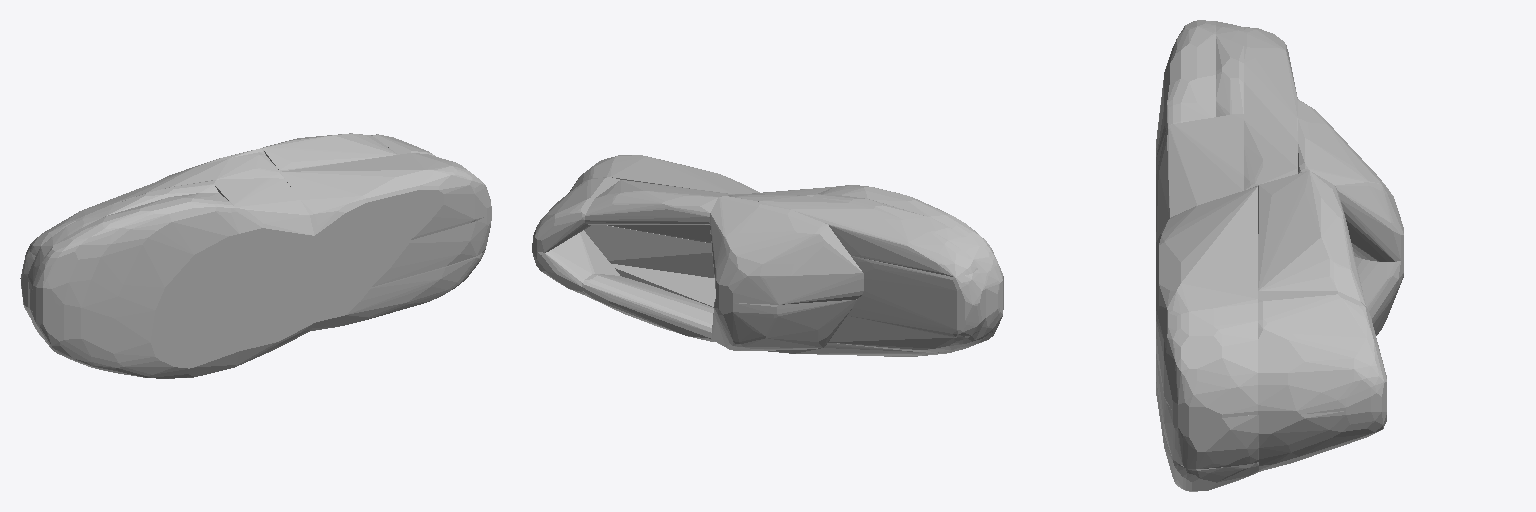
robot.urdf — root:
<robot name="root">
  <link name="link_coacd_convex_piece_0">
    <inertial>
      <origin xyz="0 0 0" rpy="0 0 0"/>
      <inertia ixx="1.16E-03" ixy="1.67E-03" ixz="2.62E-03" iyy="8.85E-03" iyz="-5.40E-04" izz="8.73E-03"/>
    </inertial>
    <visual>
      <origin xyz="0 0 0" rpy="0 0 0"/>
      <geometry>
        <mesh filename="coacd_convex_piece_0.obj" scale="1.0000E+00 1.0000E+00 1.0000E+00"/>
      </geometry>
      <material name="">
        <color rgba="7.50E-01 7.50E-01 7.50E-01 1"/>
      </material>
    </visual>
    <collision>
      <origin xyz="0 0 0" rpy="0 0 0"/>
      <geometry>
        <mesh filename="coacd_convex_piece_0.obj" scale="1.0000E+00 1.0000E+00 1.0000E+00"/>
      </geometry>
    </collision>
  </link>
  <link name="link_coacd_convex_piece_1">
    <inertial>
      <origin xyz="0 0 0" rpy="0 0 0"/>
      <inertia ixx="3.57E-04" ixy="8.26E-05" ixz="2.01E-04" iyy="3.57E-04" iyz="-1.58E-04" izz="4.61E-04"/>
    </inertial>
    <visual>
      <origin xyz="0 0 0" rpy="0 0 0"/>
      <geometry>
        <mesh filename="coacd_convex_piece_1.obj" scale="1.0000E+00 1.0000E+00 1.0000E+00"/>
      </geometry>
      <material name="">
        <color rgba="7.50E-01 7.50E-01 7.50E-01 1"/>
      </material>
    </visual>
    <collision>
      <origin xyz="0 0 0" rpy="0 0 0"/>
      <geometry>
        <mesh filename="coacd_convex_piece_1.obj" scale="1.0000E+00 1.0000E+00 1.0000E+00"/>
      </geometry>
    </collision>
  </link>
  <joint name="link_coacd_convex_piece_1_joint" type="fixed">
    <origin xyz="0 0 0" rpy="0 0 0"/>
    <parent link="link_coacd_convex_piece_0"/>
    <child link="link_coacd_convex_piece_1"/>
  </joint>
  <link name="link_coacd_convex_piece_2">
    <inertial>
      <origin xyz="0 0 0" rpy="0 0 0"/>
      <inertia ixx="5.21E-04" ixy="-1.72E-04" ixz="2.47E-04" iyy="4.79E-04" iyz="2.88E-04" izz="7.50E-04"/>
    </inertial>
    <visual>
      <origin xyz="0 0 0" rpy="0 0 0"/>
      <geometry>
        <mesh filename="coacd_convex_piece_2.obj" scale="1.0000E+00 1.0000E+00 1.0000E+00"/>
      </geometry>
      <material name="">
        <color rgba="7.50E-01 7.50E-01 7.50E-01 1"/>
      </material>
    </visual>
    <collision>
      <origin xyz="0 0 0" rpy="0 0 0"/>
      <geometry>
        <mesh filename="coacd_convex_piece_2.obj" scale="1.0000E+00 1.0000E+00 1.0000E+00"/>
      </geometry>
    </collision>
  </link>
  <joint name="link_coacd_convex_piece_2_joint" type="fixed">
    <origin xyz="0 0 0" rpy="0 0 0"/>
    <parent link="link_coacd_convex_piece_1"/>
    <child link="link_coacd_convex_piece_2"/>
  </joint>
  <link name="link_coacd_convex_piece_3">
    <inertial>
      <origin xyz="0 0 0" rpy="0 0 0"/>
      <inertia ixx="7.30E-05" ixy="-4.13E-04" ixz="-3.71E-04" iyy="3.79E-03" iyz="-2.84E-05" izz="3.85E-03"/>
    </inertial>
    <visual>
      <origin xyz="0 0 0" rpy="0 0 0"/>
      <geometry>
        <mesh filename="coacd_convex_piece_3.obj" scale="1.0000E+00 1.0000E+00 1.0000E+00"/>
      </geometry>
      <material name="">
        <color rgba="7.50E-01 7.50E-01 7.50E-01 1"/>
      </material>
    </visual>
    <collision>
      <origin xyz="0 0 0" rpy="0 0 0"/>
      <geometry>
        <mesh filename="coacd_convex_piece_3.obj" scale="1.0000E+00 1.0000E+00 1.0000E+00"/>
      </geometry>
    </collision>
  </link>
  <joint name="link_coacd_convex_piece_3_joint" type="fixed">
    <origin xyz="0 0 0" rpy="0 0 0"/>
    <parent link="link_coacd_convex_piece_2"/>
    <child link="link_coacd_convex_piece_3"/>
  </joint>
  <link name="link_coacd_convex_piece_4">
    <inertial>
      <origin xyz="0 0 0" rpy="0 0 0"/>
      <inertia ixx="2.87E-04" ixy="-6.16E-04" ixz="-2.00E-04" iyy="1.47E-03" iyz="-8.29E-05" izz="1.82E-03"/>
    </inertial>
    <visual>
      <origin xyz="0 0 0" rpy="0 0 0"/>
      <geometry>
        <mesh filename="coacd_convex_piece_4.obj" scale="1.0000E+00 1.0000E+00 1.0000E+00"/>
      </geometry>
      <material name="">
        <color rgba="7.50E-01 7.50E-01 7.50E-01 1"/>
      </material>
    </visual>
    <collision>
      <origin xyz="0 0 0" rpy="0 0 0"/>
      <geometry>
        <mesh filename="coacd_convex_piece_4.obj" scale="1.0000E+00 1.0000E+00 1.0000E+00"/>
      </geometry>
    </collision>
  </link>
  <joint name="link_coacd_convex_piece_4_joint" type="fixed">
    <origin xyz="0 0 0" rpy="0 0 0"/>
    <parent link="link_coacd_convex_piece_3"/>
    <child link="link_coacd_convex_piece_4"/>
  </joint>
  <link name="link_coacd_convex_piece_5">
    <inertial>
      <origin xyz="0 0 0" rpy="0 0 0"/>
      <inertia ixx="9.92E-04" ixy="-1.46E-03" ixz="1.36E-03" iyy="4.41E-03" iyz="5.68E-04" izz="4.72E-03"/>
    </inertial>
    <visual>
      <origin xyz="0 0 0" rpy="0 0 0"/>
      <geometry>
        <mesh filename="coacd_convex_piece_5.obj" scale="1.0000E+00 1.0000E+00 1.0000E+00"/>
      </geometry>
      <material name="">
        <color rgba="7.50E-01 7.50E-01 7.50E-01 1"/>
      </material>
    </visual>
    <collision>
      <origin xyz="0 0 0" rpy="0 0 0"/>
      <geometry>
        <mesh filename="coacd_convex_piece_5.obj" scale="1.0000E+00 1.0000E+00 1.0000E+00"/>
      </geometry>
    </collision>
  </link>
  <joint name="link_coacd_convex_piece_5_joint" type="fixed">
    <origin xyz="0 0 0" rpy="0 0 0"/>
    <parent link="link_coacd_convex_piece_4"/>
    <child link="link_coacd_convex_piece_5"/>
  </joint>
  <link name="link_coacd_convex_piece_6">
    <inertial>
      <origin xyz="0 0 0" rpy="0 0 0"/>
      <inertia ixx="5.38E-04" ixy="-5.58E-04" ixz="1.77E-03" iyy="6.29E-03" iyz="2.21E-04" izz="5.94E-03"/>
    </inertial>
    <visual>
      <origin xyz="0 0 0" rpy="0 0 0"/>
      <geometry>
        <mesh filename="coacd_convex_piece_6.obj" scale="1.0000E+00 1.0000E+00 1.0000E+00"/>
      </geometry>
      <material name="">
        <color rgba="7.50E-01 7.50E-01 7.50E-01 1"/>
      </material>
    </visual>
    <collision>
      <origin xyz="0 0 0" rpy="0 0 0"/>
      <geometry>
        <mesh filename="coacd_convex_piece_6.obj" scale="1.0000E+00 1.0000E+00 1.0000E+00"/>
      </geometry>
    </collision>
  </link>
  <joint name="link_coacd_convex_piece_6_joint" type="fixed">
    <origin xyz="0 0 0" rpy="0 0 0"/>
    <parent link="link_coacd_convex_piece_5"/>
    <child link="link_coacd_convex_piece_6"/>
  </joint>
  <link name="link_coacd_convex_piece_7">
    <inertial>
      <origin xyz="0 0 0" rpy="0 0 0"/>
      <inertia ixx="9.49E-05" ixy="4.90E-04" ixz="-3.64E-04" iyy="3.53E-03" iyz="6.17E-05" izz="3.61E-03"/>
    </inertial>
    <visual>
      <origin xyz="0 0 0" rpy="0 0 0"/>
      <geometry>
        <mesh filename="coacd_convex_piece_7.obj" scale="1.0000E+00 1.0000E+00 1.0000E+00"/>
      </geometry>
      <material name="">
        <color rgba="7.50E-01 7.50E-01 7.50E-01 1"/>
      </material>
    </visual>
    <collision>
      <origin xyz="0 0 0" rpy="0 0 0"/>
      <geometry>
        <mesh filename="coacd_convex_piece_7.obj" scale="1.0000E+00 1.0000E+00 1.0000E+00"/>
      </geometry>
    </collision>
  </link>
  <joint name="link_coacd_convex_piece_7_joint" type="fixed">
    <origin xyz="0 0 0" rpy="0 0 0"/>
    <parent link="link_coacd_convex_piece_6"/>
    <child link="link_coacd_convex_piece_7"/>
  </joint>
  <link name="link_coacd_convex_piece_8">
    <inertial>
      <origin xyz="0 0 0" rpy="0 0 0"/>
      <inertia ixx="3.43E-04" ixy="6.79E-04" ixz="-1.76E-04" iyy="1.39E-03" iyz="1.20E-04" izz="1.81E-03"/>
    </inertial>
    <visual>
      <origin xyz="0 0 0" rpy="0 0 0"/>
      <geometry>
        <mesh filename="coacd_convex_piece_8.obj" scale="1.0000E+00 1.0000E+00 1.0000E+00"/>
      </geometry>
      <material name="">
        <color rgba="7.50E-01 7.50E-01 7.50E-01 1"/>
      </material>
    </visual>
    <collision>
      <origin xyz="0 0 0" rpy="0 0 0"/>
      <geometry>
        <mesh filename="coacd_convex_piece_8.obj" scale="1.0000E+00 1.0000E+00 1.0000E+00"/>
      </geometry>
    </collision>
  </link>
  <joint name="link_coacd_convex_piece_8_joint" type="fixed">
    <origin xyz="0 0 0" rpy="0 0 0"/>
    <parent link="link_coacd_convex_piece_7"/>
    <child link="link_coacd_convex_piece_8"/>
  </joint>
  <link name="link_coacd_convex_piece_9">
    <inertial>
      <origin xyz="0 0 0" rpy="0 0 0"/>
      <inertia ixx="2.36E-04" ixy="1.64E-04" ixz="-1.43E-06" iyy="1.95E-04" iyz="4.29E-05" izz="5.41E-04"/>
    </inertial>
    <visual>
      <origin xyz="0 0 0" rpy="0 0 0"/>
      <geometry>
        <mesh filename="coacd_convex_piece_9.obj" scale="1.0000E+00 1.0000E+00 1.0000E+00"/>
      </geometry>
      <material name="">
        <color rgba="7.50E-01 7.50E-01 7.50E-01 1"/>
      </material>
    </visual>
    <collision>
      <origin xyz="0 0 0" rpy="0 0 0"/>
      <geometry>
        <mesh filename="coacd_convex_piece_9.obj" scale="1.0000E+00 1.0000E+00 1.0000E+00"/>
      </geometry>
    </collision>
  </link>
  <joint name="link_coacd_convex_piece_9_joint" type="fixed">
    <origin xyz="0 0 0" rpy="0 0 0"/>
    <parent link="link_coacd_convex_piece_8"/>
    <child link="link_coacd_convex_piece_9"/>
  </joint>
  <link name="link_coacd_convex_piece_10">
    <inertial>
      <origin xyz="0 0 0" rpy="0 0 0"/>
      <inertia ixx="3.48E-05" ixy="3.70E-04" ixz="-6.03E-05" iyy="1.54E-03" iyz="3.39E-05" izz="1.73E-03"/>
    </inertial>
    <visual>
      <origin xyz="0 0 0" rpy="0 0 0"/>
      <geometry>
        <mesh filename="coacd_convex_piece_10.obj" scale="1.0000E+00 1.0000E+00 1.0000E+00"/>
      </geometry>
      <material name="">
        <color rgba="7.50E-01 7.50E-01 7.50E-01 1"/>
      </material>
    </visual>
    <collision>
      <origin xyz="0 0 0" rpy="0 0 0"/>
      <geometry>
        <mesh filename="coacd_convex_piece_10.obj" scale="1.0000E+00 1.0000E+00 1.0000E+00"/>
      </geometry>
    </collision>
  </link>
  <joint name="link_coacd_convex_piece_10_joint" type="fixed">
    <origin xyz="0 0 0" rpy="0 0 0"/>
    <parent link="link_coacd_convex_piece_9"/>
    <child link="link_coacd_convex_piece_10"/>
  </joint>
  <link name="link_coacd_convex_piece_11">
    <inertial>
      <origin xyz="0 0 0" rpy="0 0 0"/>
      <inertia ixx="-2.27E-05" ixy="-5.59E-04" ixz="-1.42E-04" iyy="4.81E-03" iyz="-9.38E-07" izz="5.16E-03"/>
    </inertial>
    <visual>
      <origin xyz="0 0 0" rpy="0 0 0"/>
      <geometry>
        <mesh filename="coacd_convex_piece_11.obj" scale="1.0000E+00 1.0000E+00 1.0000E+00"/>
      </geometry>
      <material name="">
        <color rgba="7.50E-01 7.50E-01 7.50E-01 1"/>
      </material>
    </visual>
    <collision>
      <origin xyz="0 0 0" rpy="0 0 0"/>
      <geometry>
        <mesh filename="coacd_convex_piece_11.obj" scale="1.0000E+00 1.0000E+00 1.0000E+00"/>
      </geometry>
    </collision>
  </link>
  <joint name="link_coacd_convex_piece_11_joint" type="fixed">
    <origin xyz="0 0 0" rpy="0 0 0"/>
    <parent link="link_coacd_convex_piece_10"/>
    <child link="link_coacd_convex_piece_11"/>
  </joint>
  <link name="link_coacd_convex_piece_12">
    <inertial>
      <origin xyz="0 0 0" rpy="0 0 0"/>
      <inertia ixx="5.42E-04" ixy="-7.31E-04" ixz="-4.02E-05" iyy="1.41E-03" iyz="-5.39E-05" izz="2.17E-03"/>
    </inertial>
    <visual>
      <origin xyz="0 0 0" rpy="0 0 0"/>
      <geometry>
        <mesh filename="coacd_convex_piece_12.obj" scale="1.0000E+00 1.0000E+00 1.0000E+00"/>
      </geometry>
      <material name="">
        <color rgba="7.50E-01 7.50E-01 7.50E-01 1"/>
      </material>
    </visual>
    <collision>
      <origin xyz="0 0 0" rpy="0 0 0"/>
      <geometry>
        <mesh filename="coacd_convex_piece_12.obj" scale="1.0000E+00 1.0000E+00 1.0000E+00"/>
      </geometry>
    </collision>
  </link>
  <joint name="link_coacd_convex_piece_12_joint" type="fixed">
    <origin xyz="0 0 0" rpy="0 0 0"/>
    <parent link="link_coacd_convex_piece_11"/>
    <child link="link_coacd_convex_piece_12"/>
  </joint>
  <link name="link_coacd_convex_piece_13">
    <inertial>
      <origin xyz="0 0 0" rpy="0 0 0"/>
      <inertia ixx="6.37E-04" ixy="2.57E-05" ixz="2.73E-05" iyy="2.78E-04" iyz="3.52E-04" izz="4.38E-04"/>
    </inertial>
    <visual>
      <origin xyz="0 0 0" rpy="0 0 0"/>
      <geometry>
        <mesh filename="coacd_convex_piece_13.obj" scale="1.0000E+00 1.0000E+00 1.0000E+00"/>
      </geometry>
      <material name="">
        <color rgba="7.50E-01 7.50E-01 7.50E-01 1"/>
      </material>
    </visual>
    <collision>
      <origin xyz="0 0 0" rpy="0 0 0"/>
      <geometry>
        <mesh filename="coacd_convex_piece_13.obj" scale="1.0000E+00 1.0000E+00 1.0000E+00"/>
      </geometry>
    </collision>
  </link>
  <joint name="link_coacd_convex_piece_13_joint" type="fixed">
    <origin xyz="0 0 0" rpy="0 0 0"/>
    <parent link="link_coacd_convex_piece_12"/>
    <child link="link_coacd_convex_piece_13"/>
  </joint>
  <link name="link_coacd_convex_piece_14">
    <inertial>
      <origin xyz="0 0 0" rpy="0 0 0"/>
      <inertia ixx="8.41E-04" ixy="-2.12E-05" ixz="6.36E-05" iyy="6.03E-04" iyz="-2.22E-04" izz="4.07E-04"/>
    </inertial>
    <visual>
      <origin xyz="0 0 0" rpy="0 0 0"/>
      <geometry>
        <mesh filename="coacd_convex_piece_14.obj" scale="1.0000E+00 1.0000E+00 1.0000E+00"/>
      </geometry>
      <material name="">
        <color rgba="7.50E-01 7.50E-01 7.50E-01 1"/>
      </material>
    </visual>
    <collision>
      <origin xyz="0 0 0" rpy="0 0 0"/>
      <geometry>
        <mesh filename="coacd_convex_piece_14.obj" scale="1.0000E+00 1.0000E+00 1.0000E+00"/>
      </geometry>
    </collision>
  </link>
  <joint name="link_coacd_convex_piece_14_joint" type="fixed">
    <origin xyz="0 0 0" rpy="0 0 0"/>
    <parent link="link_coacd_convex_piece_13"/>
    <child link="link_coacd_convex_piece_14"/>
  </joint>
  <link name="link_coacd_convex_piece_15">
    <inertial>
      <origin xyz="0 0 0" rpy="0 0 0"/>
      <inertia ixx="2.74E-03" ixy="-3.10E-04" ixz="-3.90E-03" iyy="1.18E-02" iyz="-1.18E-05" izz="1.15E-02"/>
    </inertial>
    <visual>
      <origin xyz="0 0 0" rpy="0 0 0"/>
      <geometry>
        <mesh filename="coacd_convex_piece_15.obj" scale="1.0000E+00 1.0000E+00 1.0000E+00"/>
      </geometry>
      <material name="">
        <color rgba="7.50E-01 7.50E-01 7.50E-01 1"/>
      </material>
    </visual>
    <collision>
      <origin xyz="0 0 0" rpy="0 0 0"/>
      <geometry>
        <mesh filename="coacd_convex_piece_15.obj" scale="1.0000E+00 1.0000E+00 1.0000E+00"/>
      </geometry>
    </collision>
  </link>
  <joint name="link_coacd_convex_piece_15_joint" type="fixed">
    <origin xyz="0 0 0" rpy="0 0 0"/>
    <parent link="link_coacd_convex_piece_14"/>
    <child link="link_coacd_convex_piece_15"/>
  </joint>
  <link name="link_coacd_convex_piece_16">
    <inertial>
      <origin xyz="0 0 0" rpy="0 0 0"/>
      <inertia ixx="2.27E-04" ixy="4.47E-04" ixz="-6.15E-04" iyy="3.28E-03" iyz="1.41E-04" izz="3.45E-03"/>
    </inertial>
    <visual>
      <origin xyz="0 0 0" rpy="0 0 0"/>
      <geometry>
        <mesh filename="coacd_convex_piece_16.obj" scale="1.0000E+00 1.0000E+00 1.0000E+00"/>
      </geometry>
      <material name="">
        <color rgba="7.50E-01 7.50E-01 7.50E-01 1"/>
      </material>
    </visual>
    <collision>
      <origin xyz="0 0 0" rpy="0 0 0"/>
      <geometry>
        <mesh filename="coacd_convex_piece_16.obj" scale="1.0000E+00 1.0000E+00 1.0000E+00"/>
      </geometry>
    </collision>
  </link>
  <joint name="link_coacd_convex_piece_16_joint" type="fixed">
    <origin xyz="0 0 0" rpy="0 0 0"/>
    <parent link="link_coacd_convex_piece_15"/>
    <child link="link_coacd_convex_piece_16"/>
  </joint>
  <link name="link_coacd_convex_piece_17">
    <inertial>
      <origin xyz="0 0 0" rpy="0 0 0"/>
      <inertia ixx="3.95E-04" ixy="-8.26E-04" ixz="-4.90E-04" iyy="2.59E-03" iyz="-1.93E-04" izz="2.94E-03"/>
    </inertial>
    <visual>
      <origin xyz="0 0 0" rpy="0 0 0"/>
      <geometry>
        <mesh filename="coacd_convex_piece_17.obj" scale="1.0000E+00 1.0000E+00 1.0000E+00"/>
      </geometry>
      <material name="">
        <color rgba="7.50E-01 7.50E-01 7.50E-01 1"/>
      </material>
    </visual>
    <collision>
      <origin xyz="0 0 0" rpy="0 0 0"/>
      <geometry>
        <mesh filename="coacd_convex_piece_17.obj" scale="1.0000E+00 1.0000E+00 1.0000E+00"/>
      </geometry>
    </collision>
  </link>
  <joint name="link_coacd_convex_piece_17_joint" type="fixed">
    <origin xyz="0 0 0" rpy="0 0 0"/>
    <parent link="link_coacd_convex_piece_16"/>
    <child link="link_coacd_convex_piece_17"/>
  </joint>
</robot>

--- What the picture shows (computed from the rendered views, not written in the file) ---
Views: 3 orthographic renders of the robot side by side, from view 1: azimuth 30°, elevation 25°; view 2: azimuth 150°, elevation 25°; view 3: azimuth 270°, elevation 25°.
Robot: root — 18 links, 17 joints (17 fixed); root link link_coacd_convex_piece_0; default pose: every joint at zero.
Visible links, largest first — view 1: link_coacd_convex_piece_15, link_coacd_convex_piece_0, link_coacd_convex_piece_14, link_coacd_convex_piece_6, link_coacd_convex_piece_5, link_coacd_convex_piece_8, link_coacd_convex_piece_12, link_coacd_convex_piece_13, link_coacd_convex_piece_17; view 2: link_coacd_convex_piece_2, link_coacd_convex_piece_11, link_coacd_convex_piece_12, link_coacd_convex_piece_1, link_coacd_convex_piece_8, link_coacd_convex_piece_4, link_coacd_convex_piece_0, link_coacd_convex_piece_6, link_coacd_convex_piece_10, link_coacd_convex_piece_7, link_coacd_convex_piece_3, link_coacd_convex_piece_15 (+4 smaller); view 3: link_coacd_convex_piece_0, link_coacd_convex_piece_7, link_coacd_convex_piece_8, link_coacd_convex_piece_2, link_coacd_convex_piece_12, link_coacd_convex_piece_14, link_coacd_convex_piece_3, link_coacd_convex_piece_15, link_coacd_convex_piece_6, link_coacd_convex_piece_17, link_coacd_convex_piece_1, link_coacd_convex_piece_5.
Boxes of the visible links, bbox=[...] form: link_coacd_convex_piece_15: bbox=[32, 193, 239, 378]; link_coacd_convex_piece_0: bbox=[281, 153, 491, 263]; link_coacd_convex_piece_14: bbox=[210, 178, 314, 317]; link_coacd_convex_piece_6: bbox=[315, 213, 491, 300]; link_coacd_convex_piece_5: bbox=[311, 251, 484, 330]; link_coacd_convex_piece_8: bbox=[263, 133, 397, 171]; link_coacd_convex_piece_12: bbox=[30, 155, 284, 255]; link_coacd_convex_piece_13: bbox=[236, 300, 314, 366]; link_coacd_convex_piece_17: bbox=[28, 181, 218, 295]; link_coacd_convex_piece_2: bbox=[709, 196, 863, 304]; link_coacd_convex_piece_11: bbox=[847, 256, 985, 337]; link_coacd_convex_piece_12: bbox=[730, 194, 977, 277]; link_coacd_convex_piece_1: bbox=[712, 298, 856, 350]; link_coacd_convex_piece_8: bbox=[585, 180, 734, 224]; link_coacd_convex_piece_4: bbox=[582, 274, 714, 341]; link_coacd_convex_piece_0: bbox=[568, 155, 759, 242]; link_coacd_convex_piece_6: bbox=[584, 225, 713, 277]; link_coacd_convex_piece_10: bbox=[828, 316, 979, 352]; link_coacd_convex_piece_7: bbox=[532, 177, 619, 252]; link_coacd_convex_piece_3: bbox=[532, 230, 619, 295]; link_coacd_convex_piece_15: bbox=[822, 185, 1003, 356]; link_coacd_convex_piece_0: bbox=[1156, 186, 1257, 417]; link_coacd_convex_piece_7: bbox=[1258, 291, 1386, 414]; link_coacd_convex_piece_8: bbox=[1258, 170, 1365, 305]; link_coacd_convex_piece_2: bbox=[1298, 99, 1403, 261]; link_coacd_convex_piece_12: bbox=[1244, 27, 1297, 190]; link_coacd_convex_piece_14: bbox=[1156, 114, 1243, 241]; link_coacd_convex_piece_3: bbox=[1259, 401, 1386, 471]; link_coacd_convex_piece_15: bbox=[1156, 20, 1215, 157]; link_coacd_convex_piece_6: bbox=[1156, 354, 1258, 468]; link_coacd_convex_piece_17: bbox=[1216, 21, 1243, 116]; link_coacd_convex_piece_1: bbox=[1355, 257, 1403, 335]; link_coacd_convex_piece_5: bbox=[1156, 382, 1258, 491].
Bounding box of the posed robot: 1.91 × 0.6225 × 0.7055 m (x, y, z).
18 mesh visuals loaded from 18 distinct referenced files (18 OBJ).
